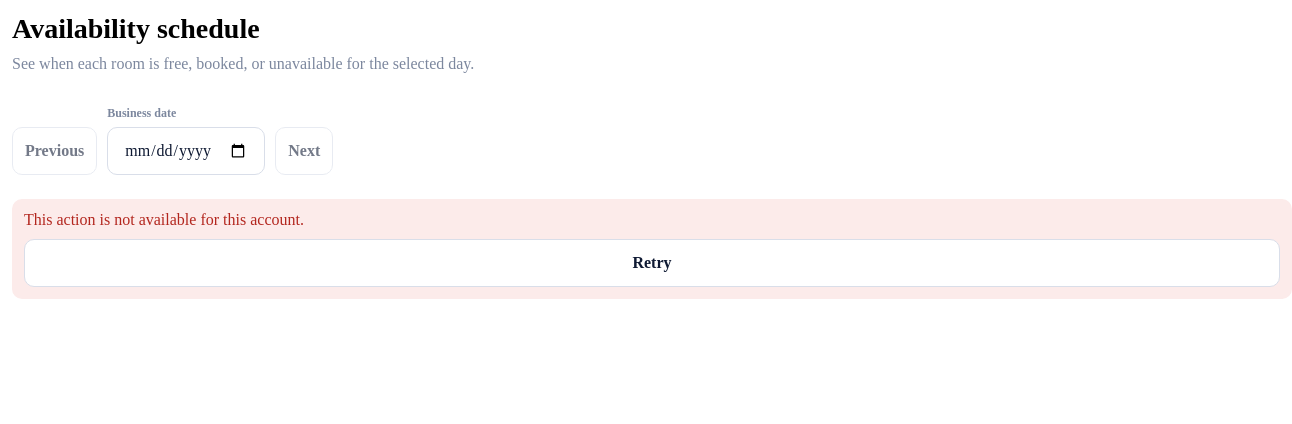
Test: AvailabilitySchedule › maps API failures through the message catalogue and retries
This screenshot has width=1292, height=424.
Check: the message shows "This action is not available for this account.", box [24,211,304,228]
Click the button "Retry" at point(652, 263), box [24,239,1280,287]
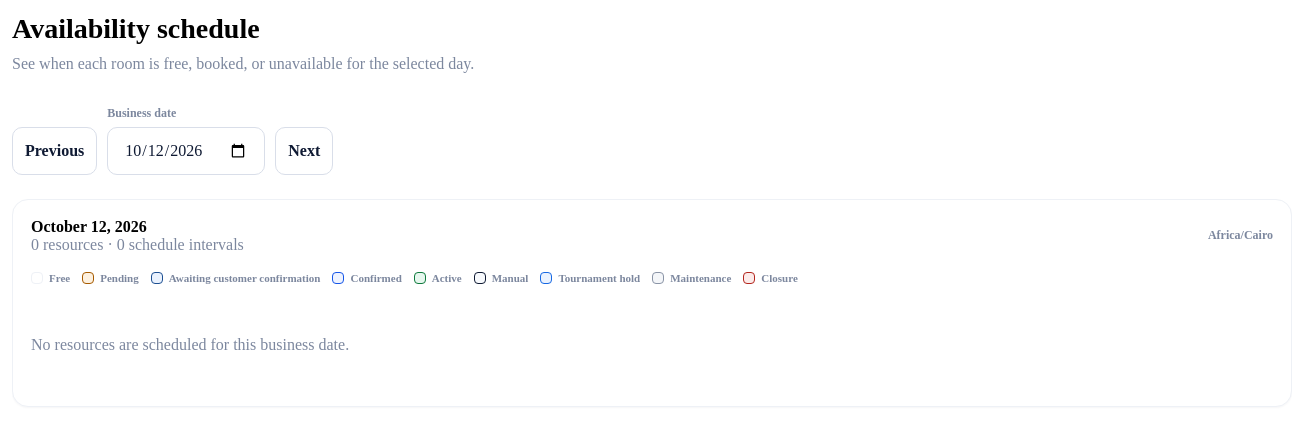
Check: the text "No resources are scheduled for this business date." is shown, box [31,336,349,353]
